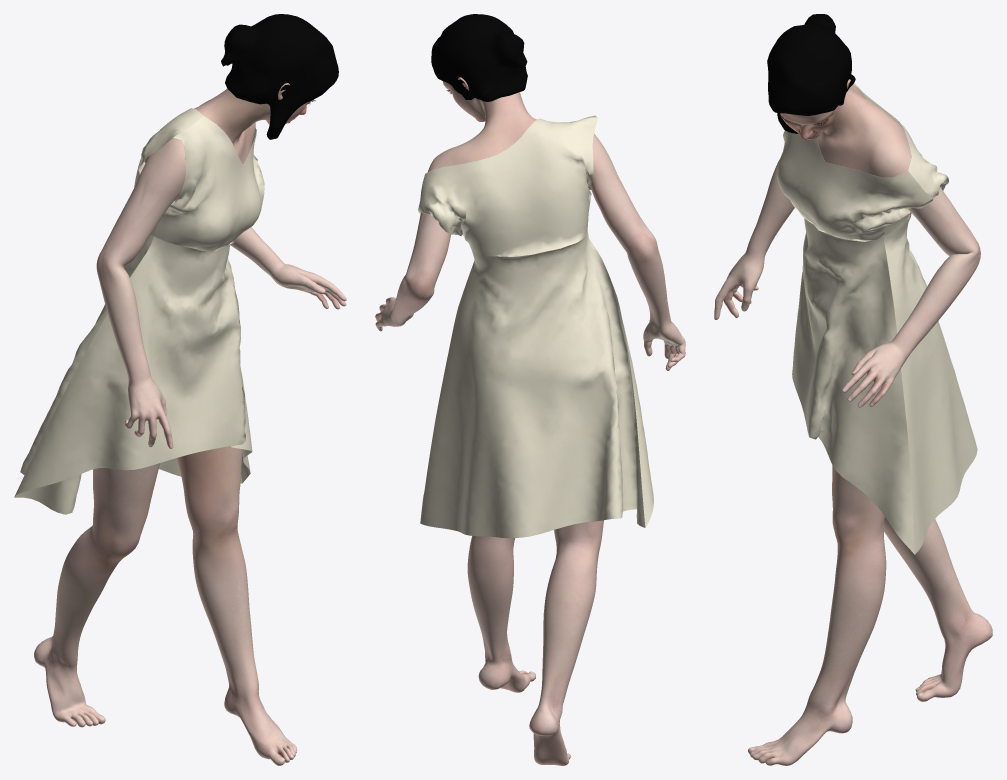
The model's file is Dramatic.obj.
3 renders of one model, left to right at view 1: azimuth 30°, elevation 25°; view 2: azimuth 150°, elevation 25°; view 3: azimuth 270°, elevation 25°, orthographic. The views are drawn at different scales.
Size of the model in its own units: 774 by 1739 by 590.
